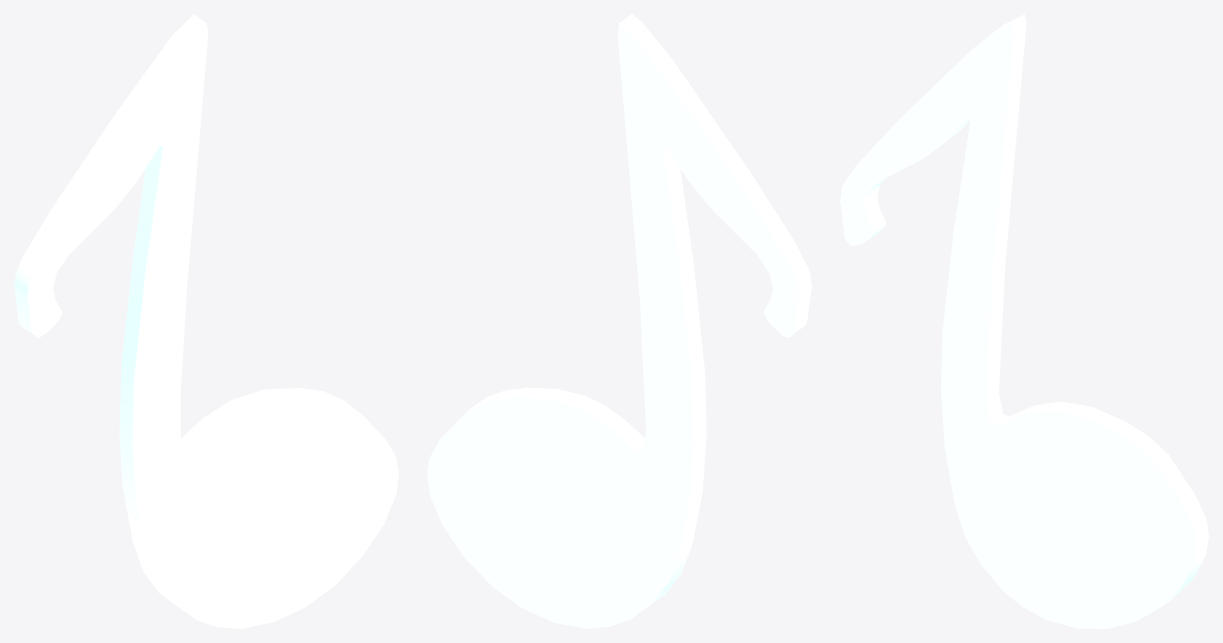
The model's file is MusicNode2.fbx.
3 renders of one model, left to right at view 1: azimuth 30°, elevation 25°; view 2: azimuth 150°, elevation 25°; view 3: azimuth 330°, elevation 25°, orthographic. The views are drawn at different scales.
Visible parts, largest first — view 1: Cube.014; view 2: Cube.014; view 3: Cube.014.
Part boxes in pixels (x1,y1,x2,y2): Cube.014: [14, 14, 398, 628]; Cube.014: [427, 14, 811, 628]; Cube.014: [840, 14, 1208, 628].
Size of the model in its own units: 46.91 by 74.17 by 2.83.
